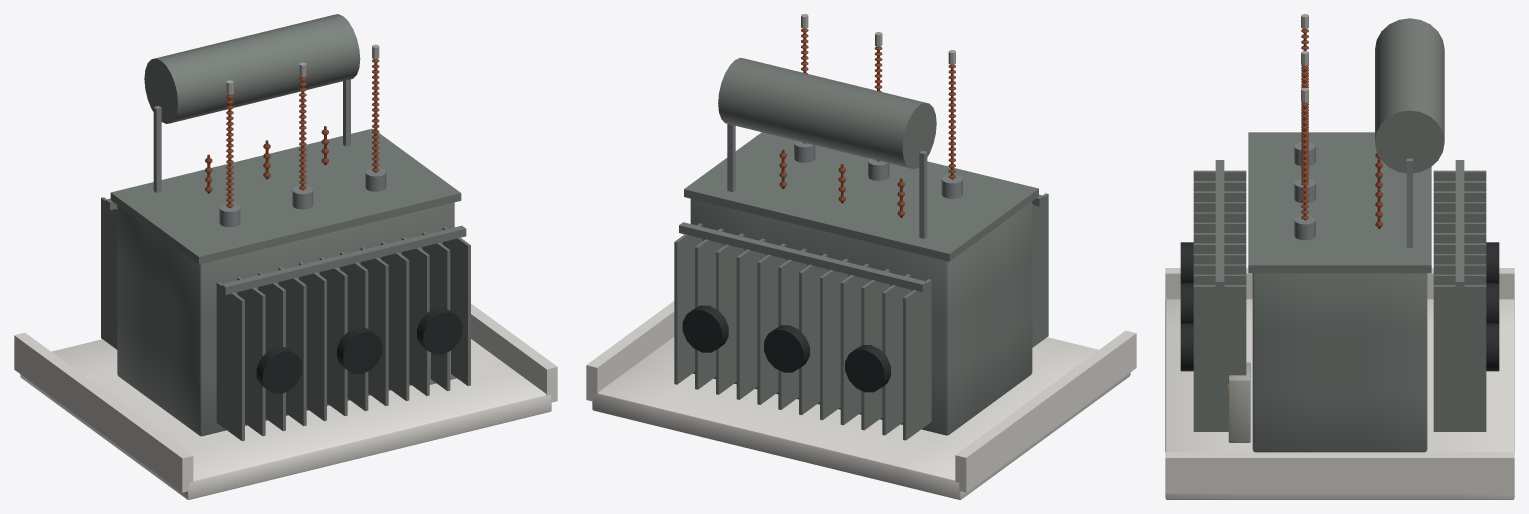
File: main-transformer.glb
3 renders of one model, left to right at view 1: azimuth 30°, elevation 25°; view 2: azimuth 150°, elevation 25°; view 3: azimuth 270°, elevation 25°, orthographic. The views are drawn at different scales.
Parts seen in each view (by area): view 1: Piece_lod0; view 2: Piece_lod0; view 3: Piece_lod0.
Part boxes in pixels (x1,y1,x2,y2): Piece_lod0: (14, 14, 557, 499); Piece_lod0: (586, 14, 1136, 499); Piece_lod0: (1165, 14, 1514, 499).
Size of what is drawn, in the model's own units: 10.3 by 9 by 8.
